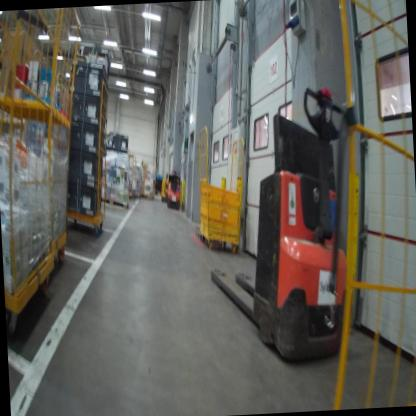pallet: (99, 191, 129, 213)
pallet_truck: (191, 75, 375, 366), (163, 163, 185, 207), (159, 170, 178, 205)
